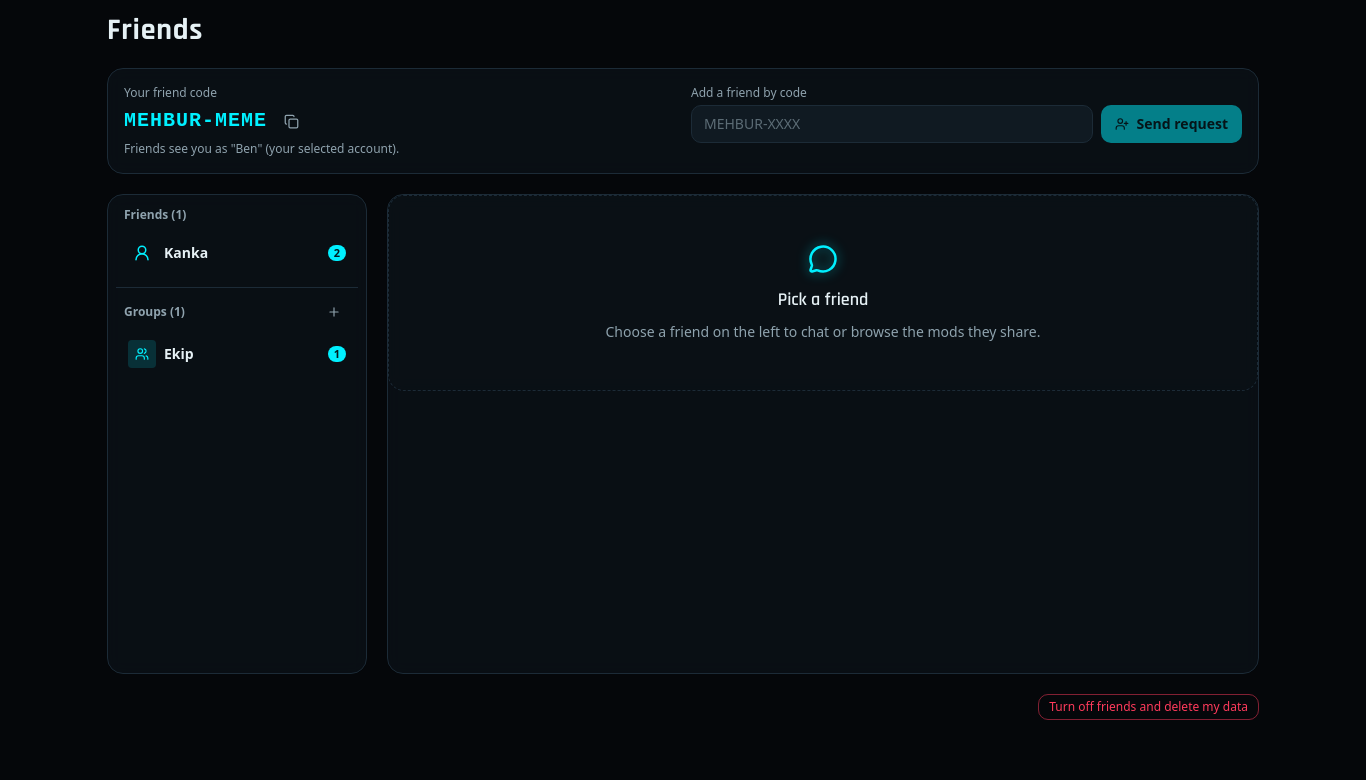
Scenario: FriendsPage › shows group messages under member nicknames and sends to the group
The width and height of the screenshot is (1366, 780).
Step 1. Click the button "Ekip 1" → (237, 354), box [116,332,358,376]
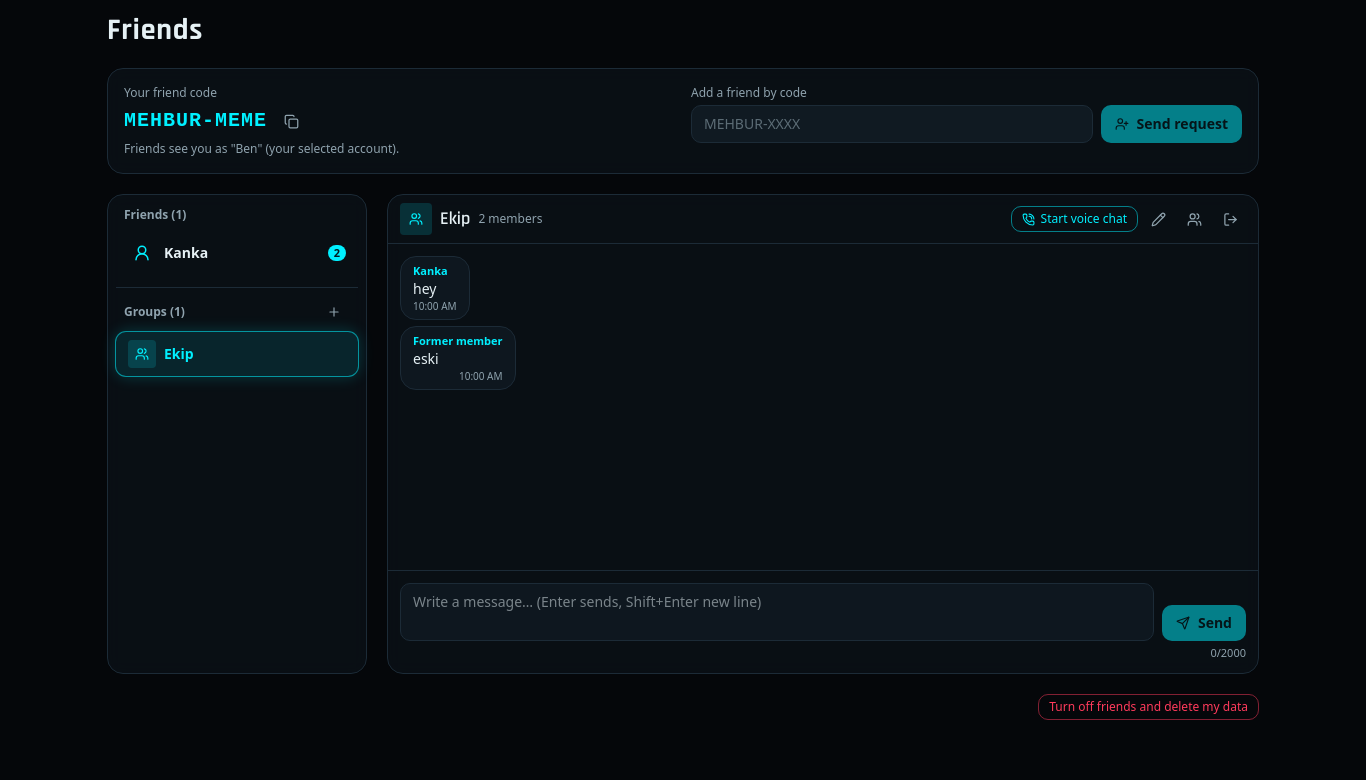
Expected: the text "hey" is shown, [413,279,436,298]
Expected: the text "Former member" is shown, [413,333,503,349]
Expected: the element named "Ekip group chat" is shown, [400,256,516,390]
Step 2. Type "selam ekip" into the text box labelled "Write a message… (Enter sends, Shift+Enter new line)" → (777, 612), box [400,582,1154,640]
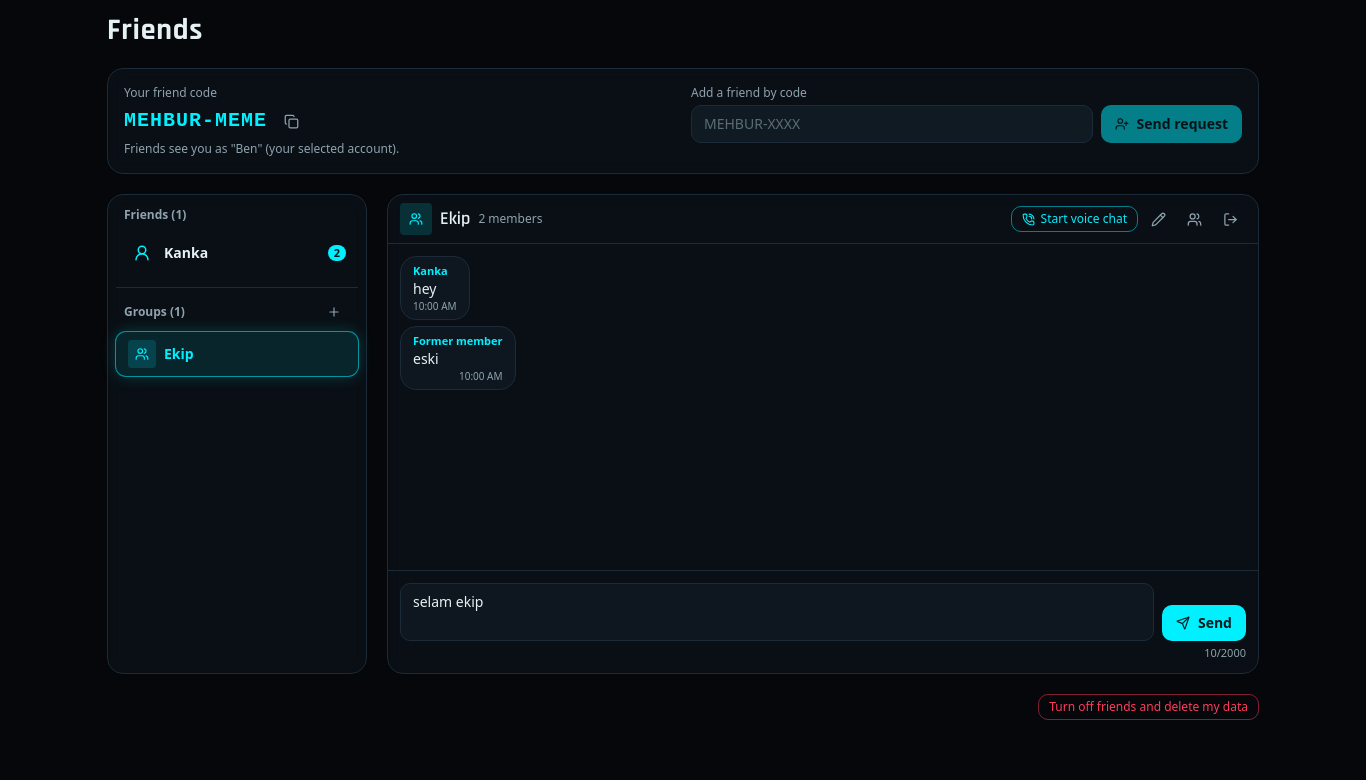
Step 3. Press Enter in the text box named "Write a message", box [400,582,1154,640]
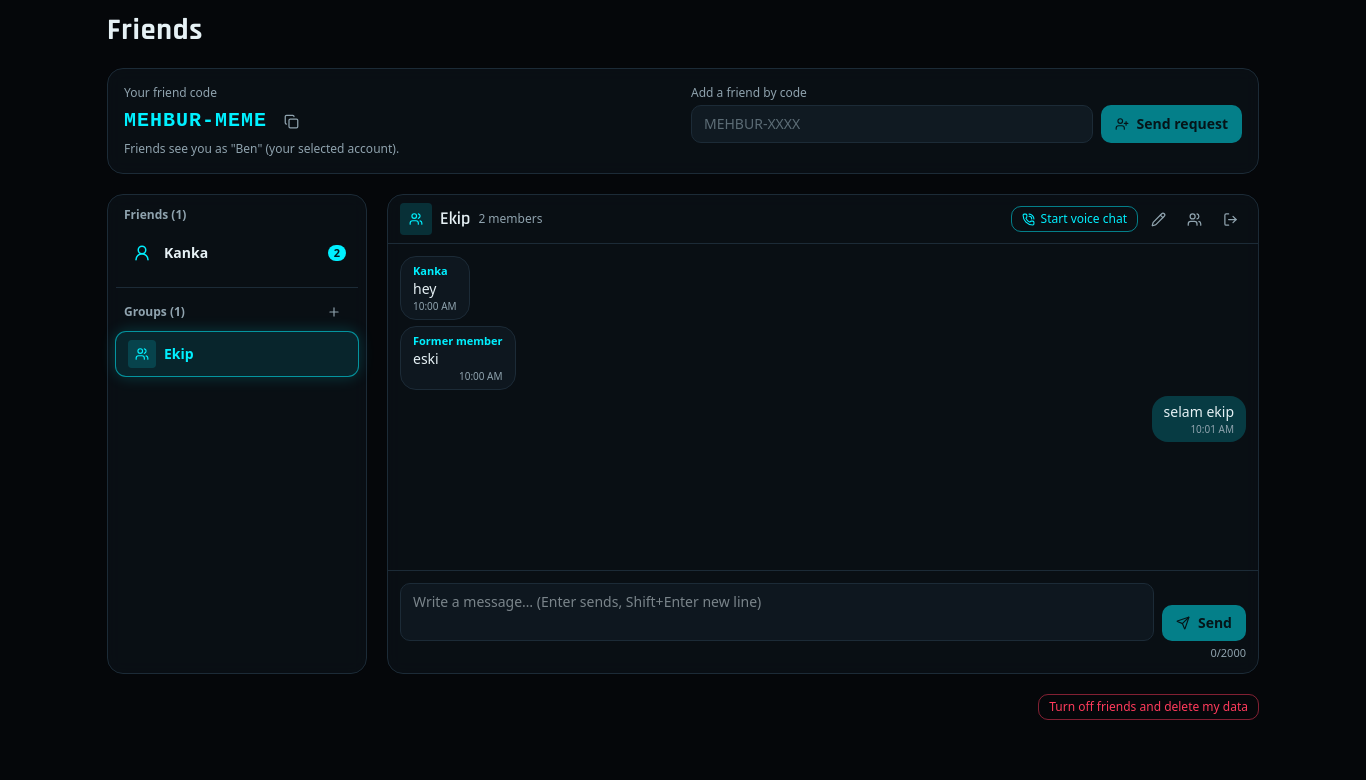
Expected: the text "selam ekip" is shown, [1164,402,1234,422]
